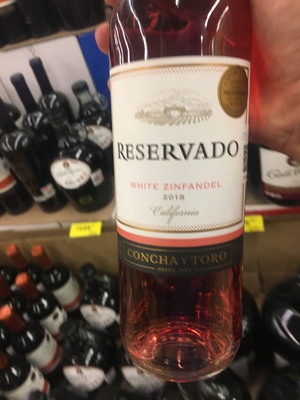reservado white zinfandel: (102, 8, 284, 384)
